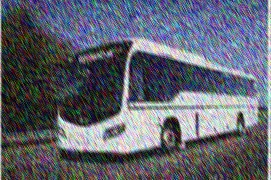bus: (56, 37, 259, 159)
